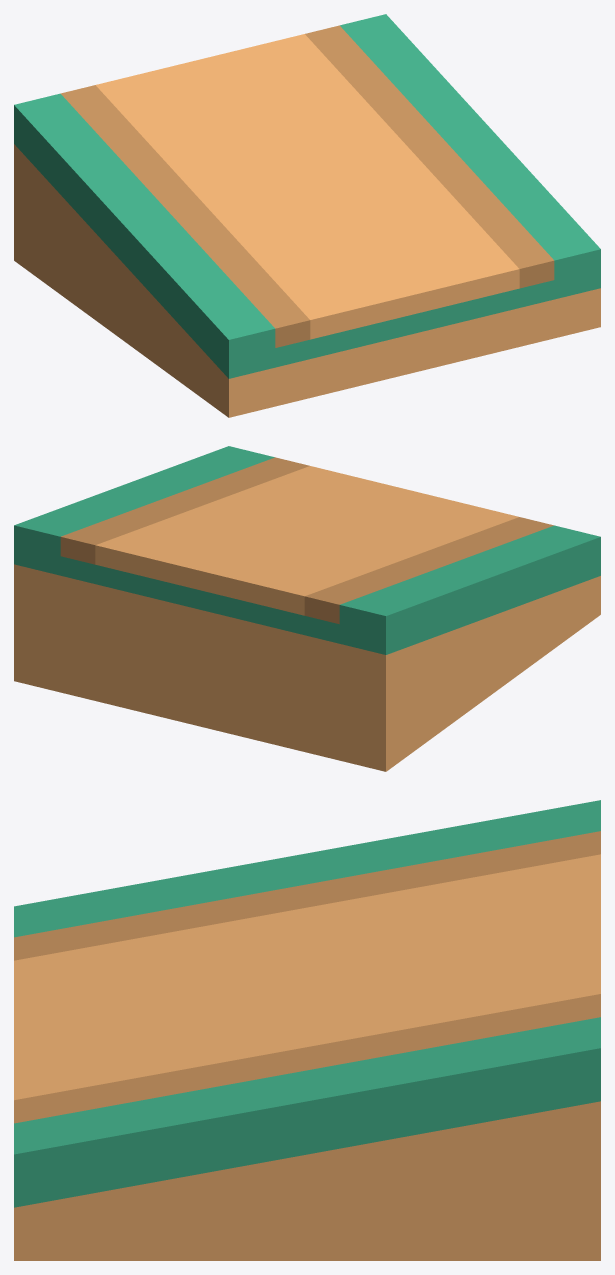
Rendered from tile_straightHill(+).fbx.
3 renders of one model, top to bottom at view 1: azimuth 30°, elevation 25°; view 2: azimuth 150°, elevation 25°; view 3: azimuth 270°, elevation 25°, orthographic. The views are drawn at different scales.
Visible parts, largest first — view 1: Mesh_2; view 2: Mesh_2; view 3: Mesh_2.
Boxes of the visible parts, x1,y1,x2,y2 form: Mesh_2: (14,14,600,417); Mesh_2: (14,446,600,771); Mesh_2: (14,800,600,1260).
Size of the model in its own units: 100 by 40 by 100.
